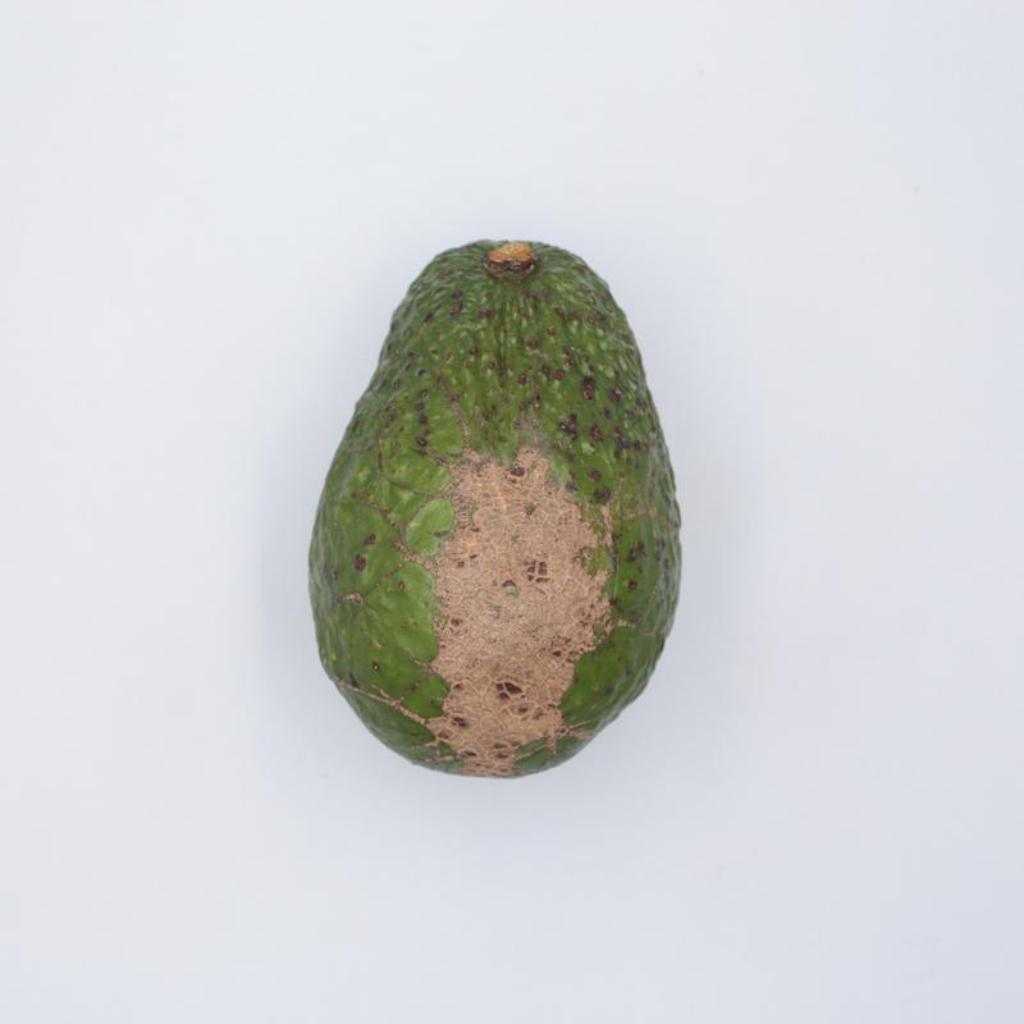scab: (308, 239, 678, 776)
